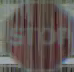Stop: (5, 3, 71, 62)
